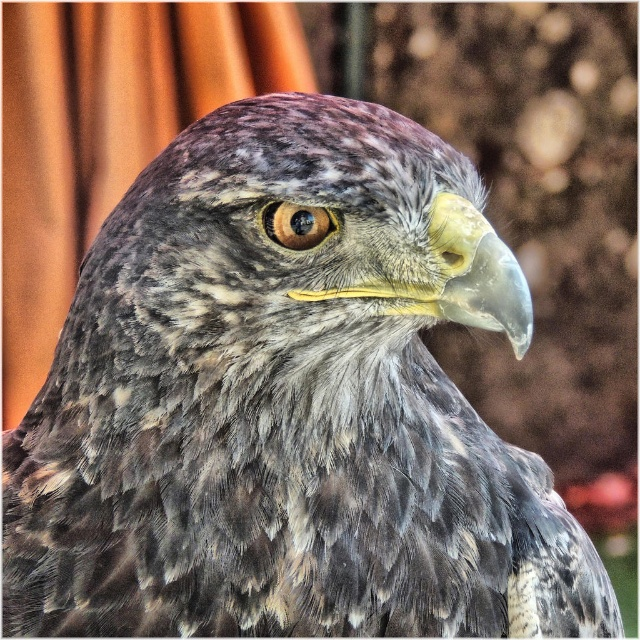Eagle: (2, 92, 625, 639)
